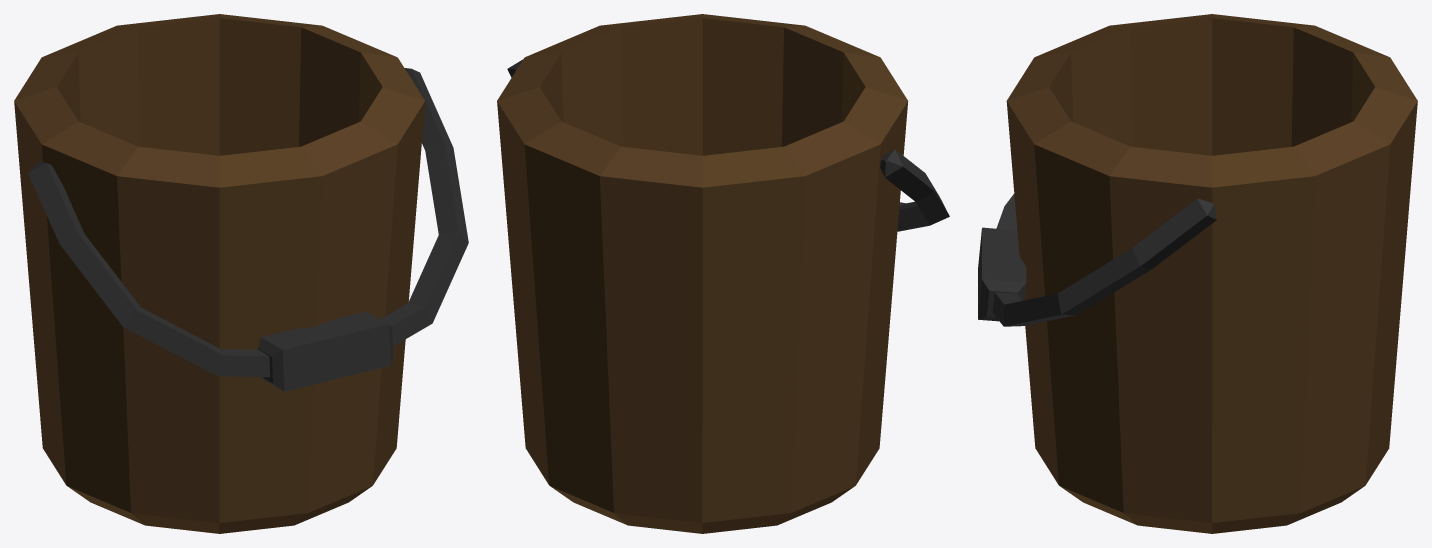
File: SM_bucket_01.fbx
The picture shows the model from 3 angles, left to right: view 1: azimuth 30°, elevation 25°; view 2: azimuth 150°, elevation 25°; view 3: azimuth 270°, elevation 25°; orthographic projection.
Visible parts, largest first — view 1: Object2159; view 2: Object2159; view 3: Object2159.
Part boxes in pixels (<box>): Object2159: <box>14,14,468,533</box>; Object2159: <box>497,14,949,533</box>; Object2159: <box>978,14,1417,533</box>.
Size of the model in its own units: 20.19 by 18.81 by 19.52.
